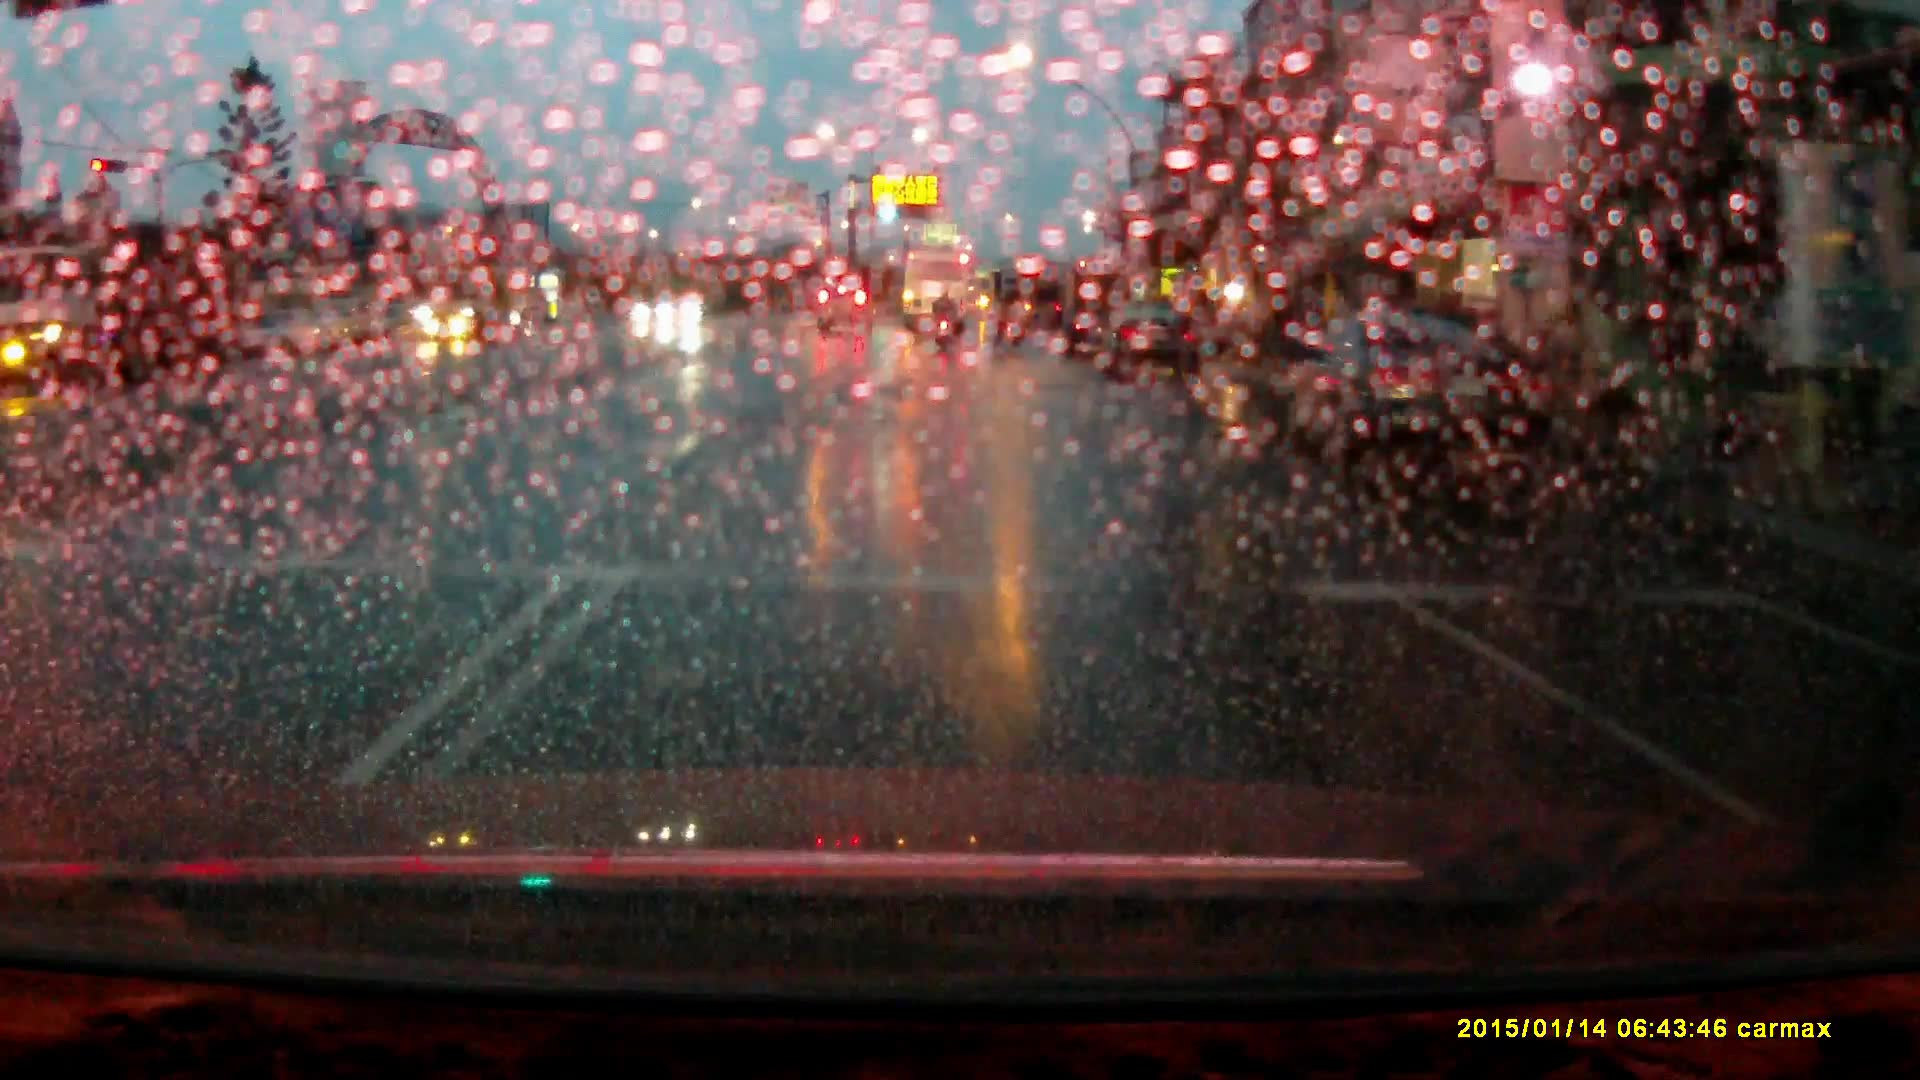rider: (932, 288, 957, 351)
vehicle: (1292, 314, 1540, 483), (1, 242, 236, 396), (414, 265, 541, 342), (1101, 307, 1197, 382), (903, 248, 973, 334), (814, 285, 877, 337), (654, 293, 703, 326)
